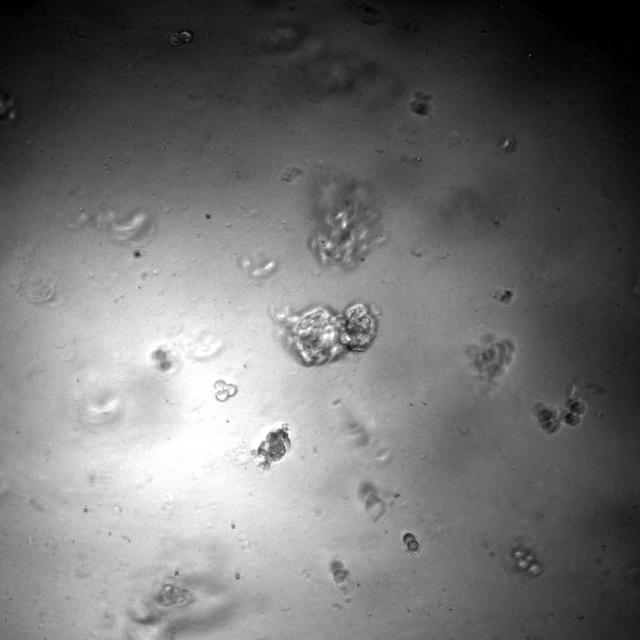organoid: (308, 175, 384, 268), (272, 302, 378, 366), (465, 334, 515, 391), (533, 385, 588, 436), (251, 423, 291, 468), (511, 547, 541, 576), (214, 379, 237, 401), (168, 29, 193, 46), (402, 532, 419, 553)
